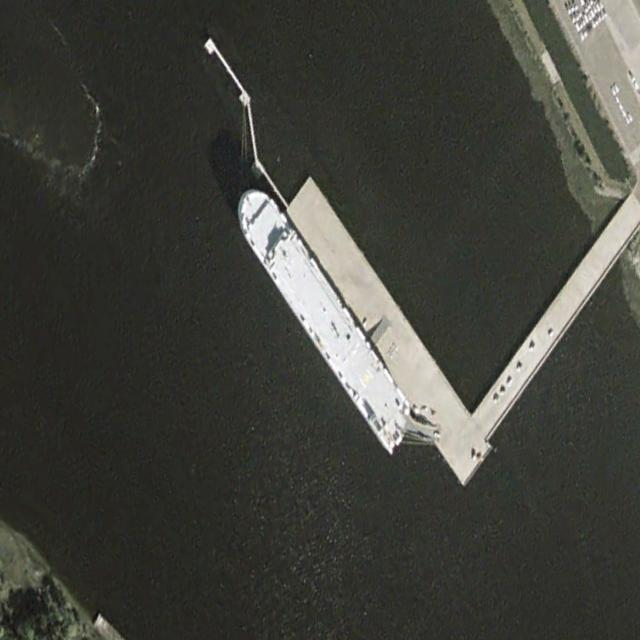RoRo: (228, 171, 419, 457)
